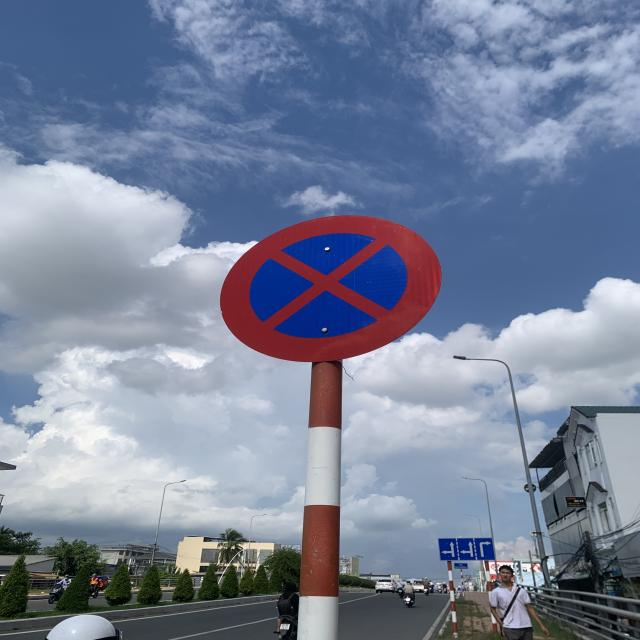Cam_Dung_Va_Dau_Xe: (218, 212, 448, 366)
